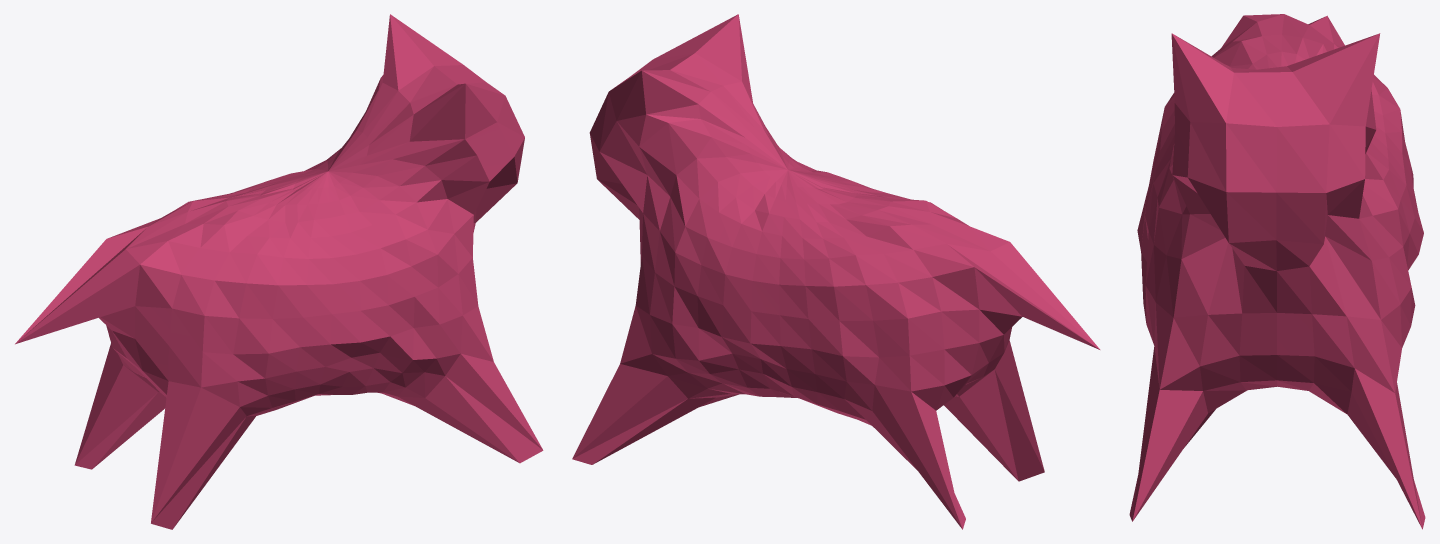
The model's file is cat.fbx.
3 views of the same model, side by side, from view 1: azimuth 30°, elevation 25°; view 2: azimuth 150°, elevation 25°; view 3: azimuth 270°, elevation 25° (orthographic). The views are drawn at different scales.
Visible parts, largest first — view 1: Empty_Mesh; view 2: Empty_Mesh; view 3: Empty_Mesh.
Part boxes in pixels (x1,y1,x2,y2): Empty_Mesh: (15,14,543,529); Empty_Mesh: (572,14,1100,529); Empty_Mesh: (1129,14,1425,529).
Bounding box in the file's own units: 2141 × 1633 × 924.
